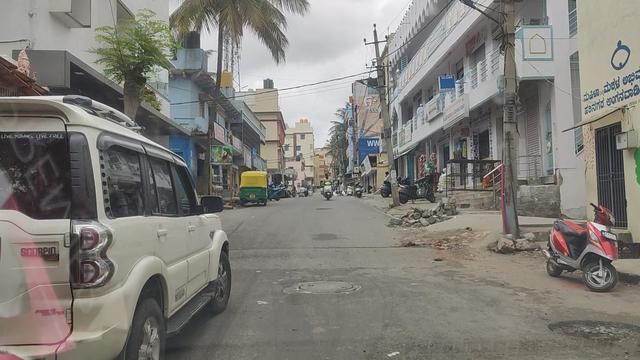RoadDamages: (545, 313, 640, 348), (286, 276, 369, 299)
